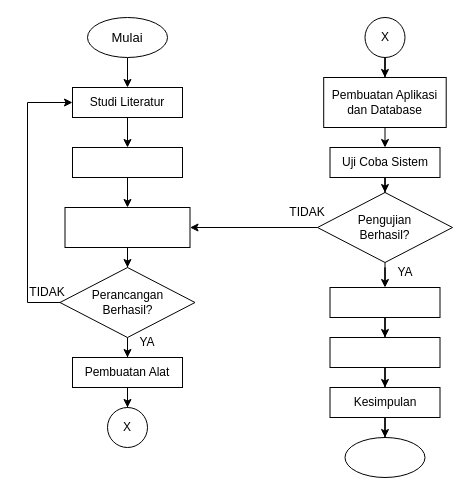
Some shapes in this 470 by 495 pixel diagram are drawn without their labels. Here are the shapes that lost their labels. From the top down, the centre of each, then its label:
At point (127, 162): "Studi Bimbingan".
At point (127, 227): "Perancangan Sistem".
At point (384, 302): "Pengambilan Data".
At point (384, 352): "Analisa Hasil".
At point (384, 457): "Selesai".
